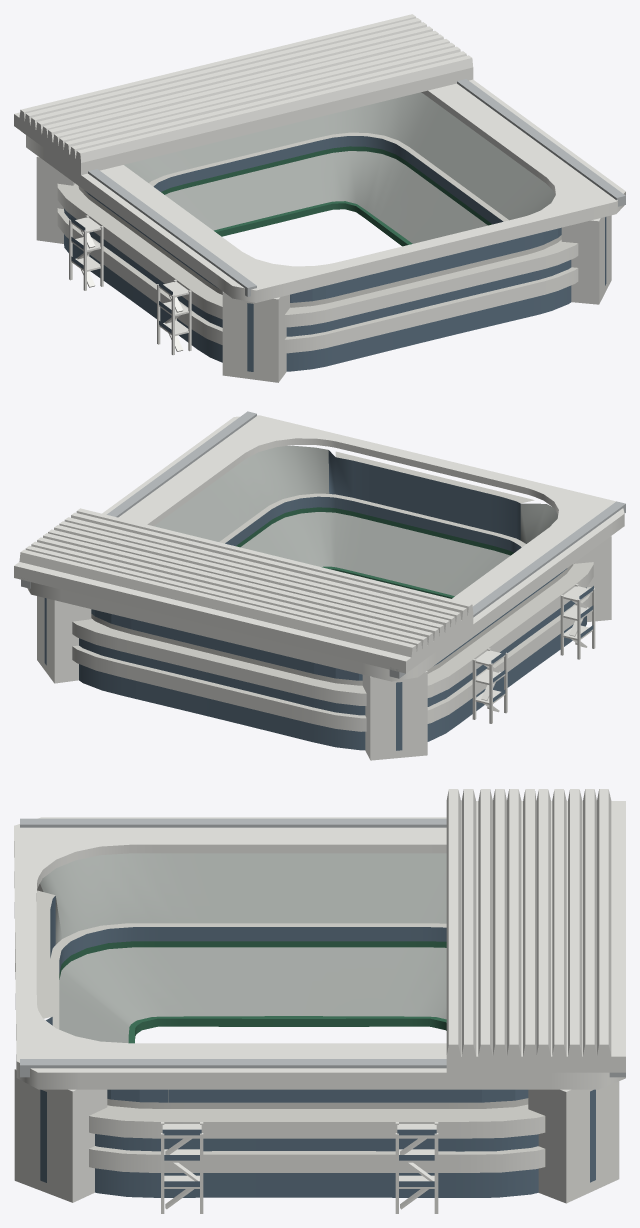
The model's file is paris-court-philippe-chatrier.glb.
3 views of the same model, one above another, from view 1: azimuth 30°, elevation 25°; view 2: azimuth 150°, elevation 25°; view 3: azimuth 270°, elevation 25° (orthographic). The views are drawn at different scales.
Visible parts, largest first — view 1: Court Philippe-Chatrier; view 2: Court Philippe-Chatrier; view 3: Court Philippe-Chatrier.
Part boxes in pixels (x1=…): Court Philippe-Chatrier: x1=14, y1=14, x2=625, y2=382; Court Philippe-Chatrier: x1=14, y1=411, x2=625, y2=760; Court Philippe-Chatrier: x1=14, y1=789, x2=625, y2=1213.
Size of the model in its own units: 117 by 31.45 by 109.
